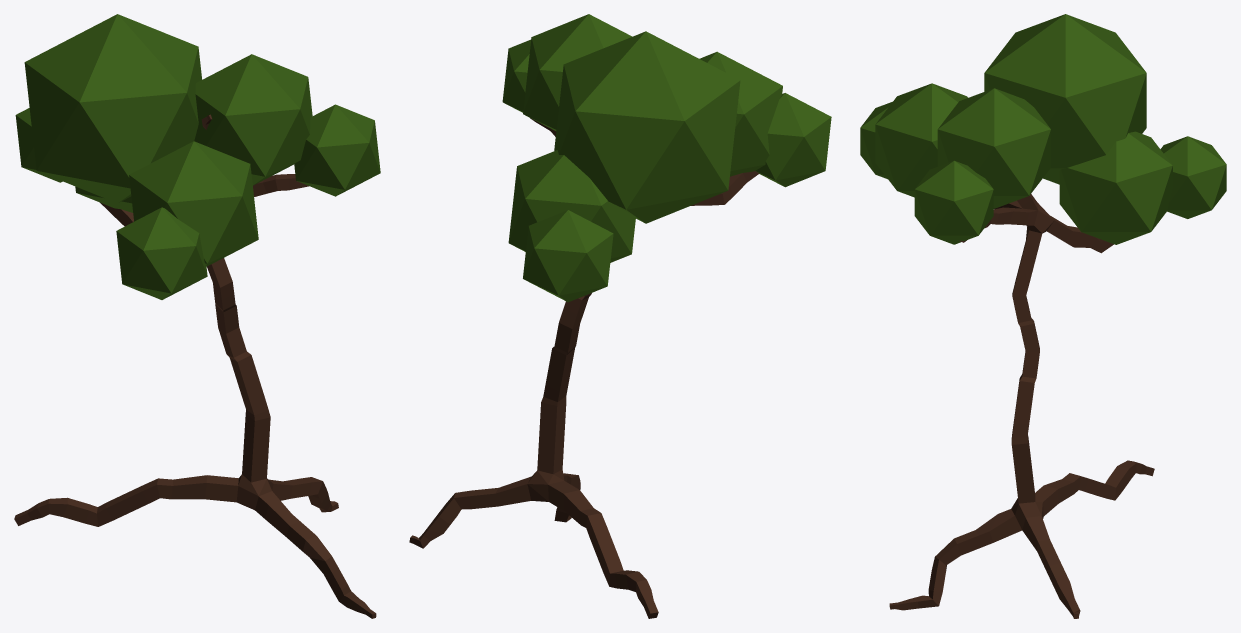
The model's file is treevariant_2.fbx.
3 views of the same model, side by side, from view 1: azimuth 30°, elevation 25°; view 2: azimuth 150°, elevation 25°; view 3: azimuth 270°, elevation 25° (orthographic). The views are drawn at different scales.
Parts seen in each view (by area): view 1: Plane.003, Plane.001; view 2: Plane.003, Plane.001; view 3: Plane.003, Plane.001.
Boxes of the visible parts, x1,y1,x2,y2 form: Plane.003: (15, 14, 380, 299); Plane.001: (14, 114, 376, 618); Plane.003: (502, 14, 831, 302); Plane.001: (409, 118, 759, 618); Plane.003: (860, 14, 1226, 244); Plane.001: (889, 194, 1154, 618).
Bounding box in the file's own units: 262 × 460 × 292.
Materials: 2 (2 with a texture image).
